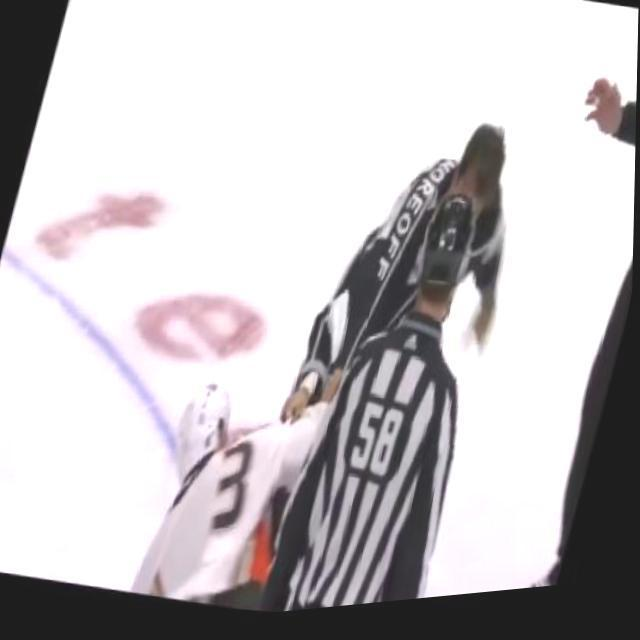fight: (129, 60, 560, 630)
